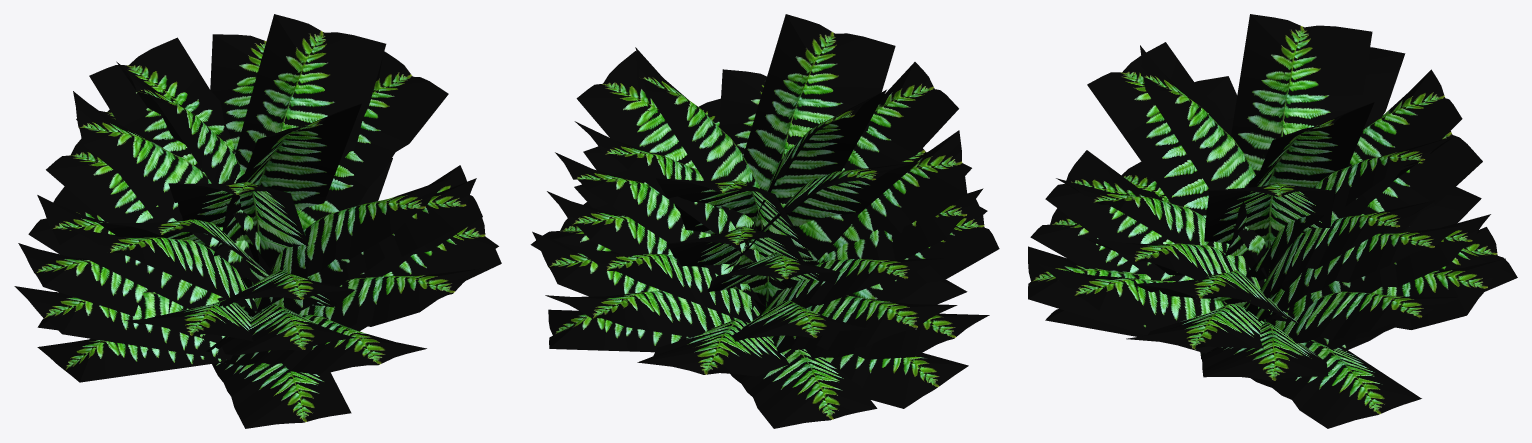
File: defneli çimen fead.fbx
The picture shows the model from 3 angles, left to right: view 1: azimuth 30°, elevation 25°; view 2: azimuth 150°, elevation 25°; view 3: azimuth 270°, elevation 25°; orthographic projection.
Parts seen in each view (by area): view 1: green fead; view 2: green fead; view 3: green fead.
Boxes of the visible parts, x1,y1,x2,y2 form: green fead: [14, 14, 501, 428]; green fead: [530, 14, 999, 428]; green fead: [1028, 14, 1517, 428].
Bounding box in the file's own units: 3.39 × 2.14 × 3.41.
